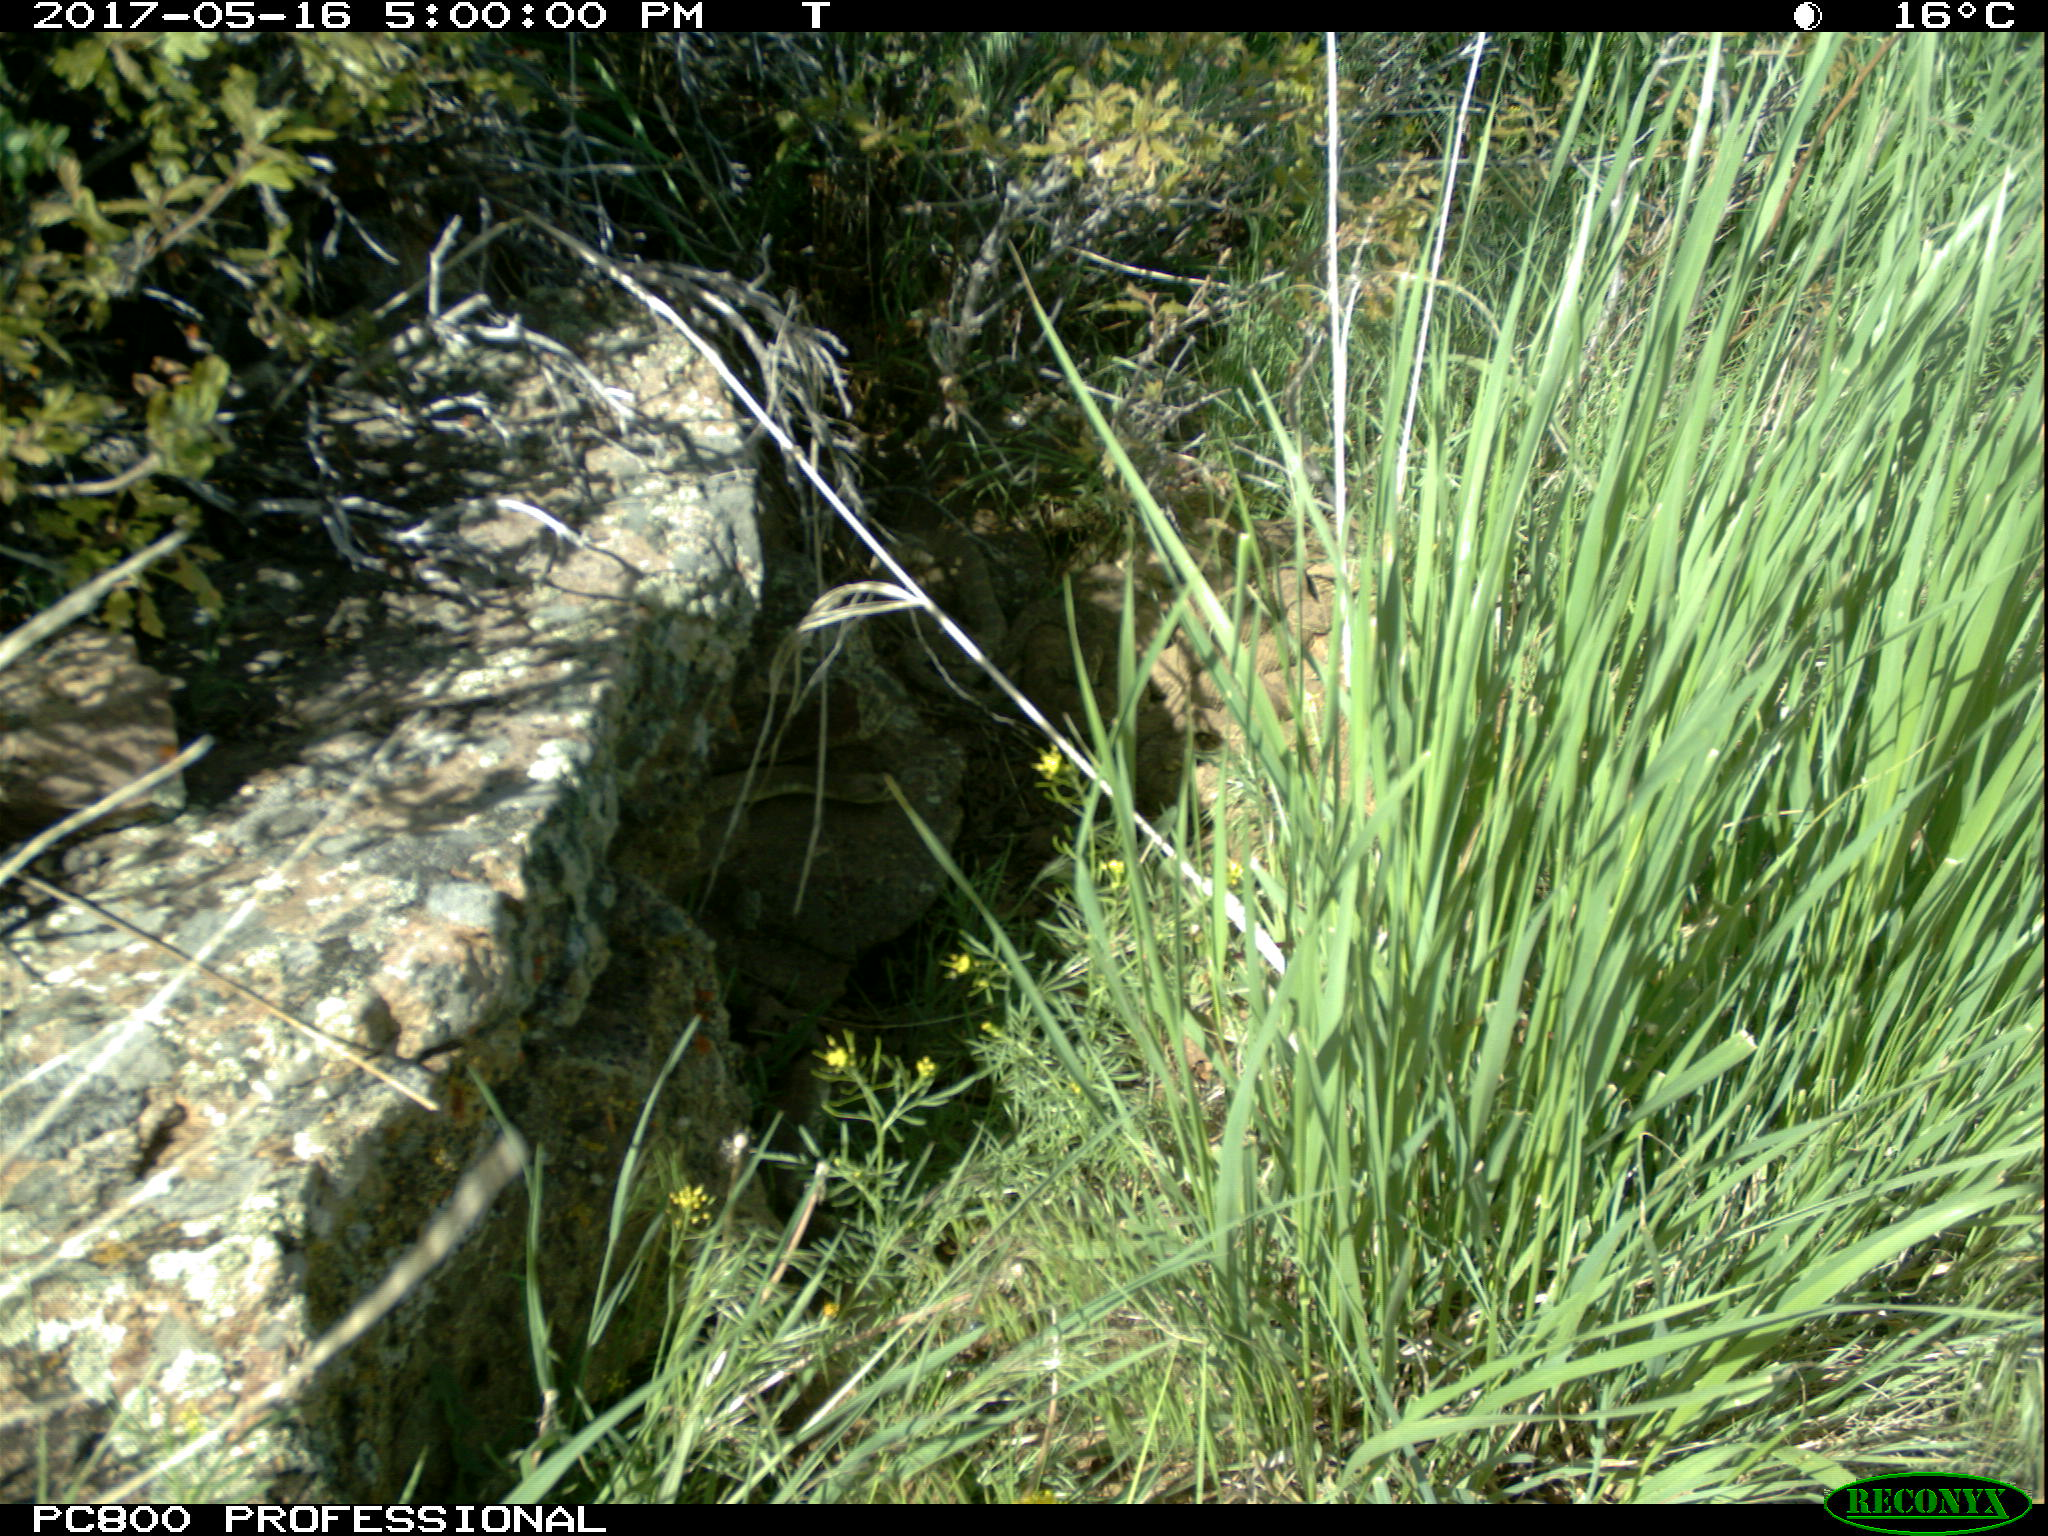snake: (1032, 578, 1206, 729), (1214, 571, 1343, 741), (893, 536, 1006, 691), (695, 758, 895, 818)
